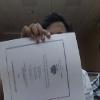notebook: (0, 31, 86, 99)
